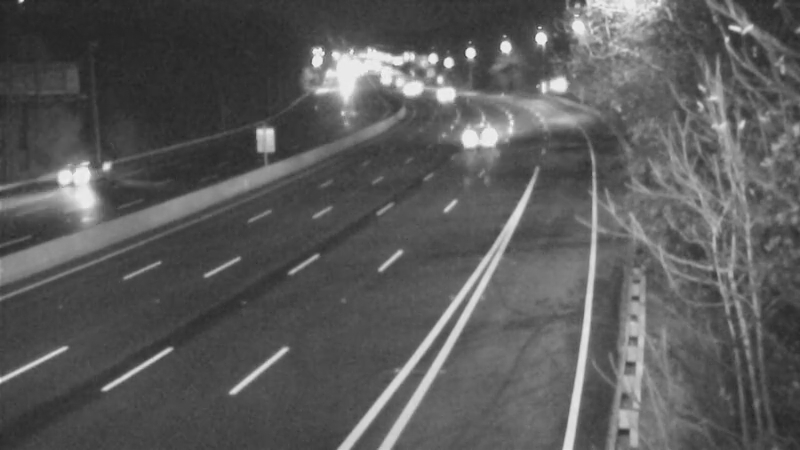vehicle: (32, 137, 112, 217), (419, 64, 469, 114), (454, 101, 504, 151)
